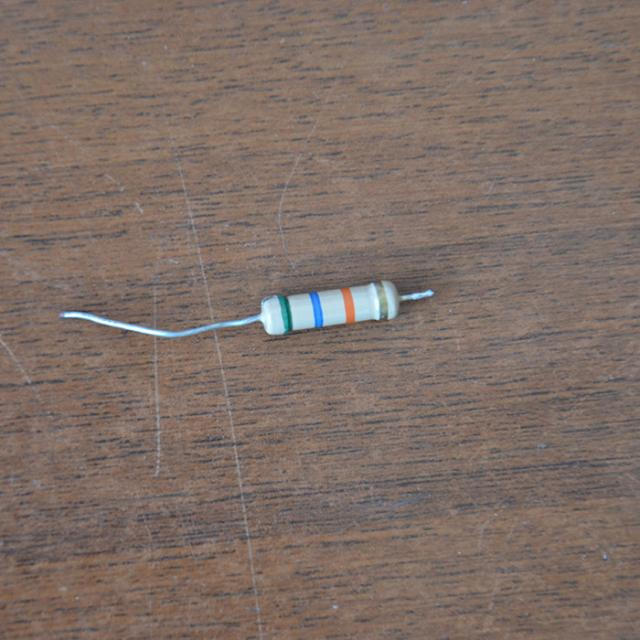blue: (309, 292, 321, 326)
gold: (375, 280, 386, 318)
green: (281, 294, 290, 332)
orange: (341, 287, 353, 320)
resistor: (251, 273, 404, 351)
